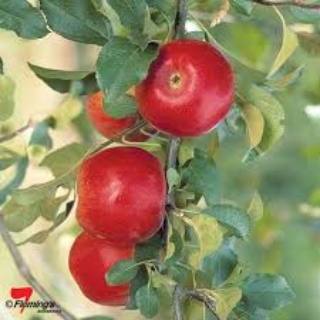tao: (135, 34, 239, 142), (73, 141, 171, 248)
